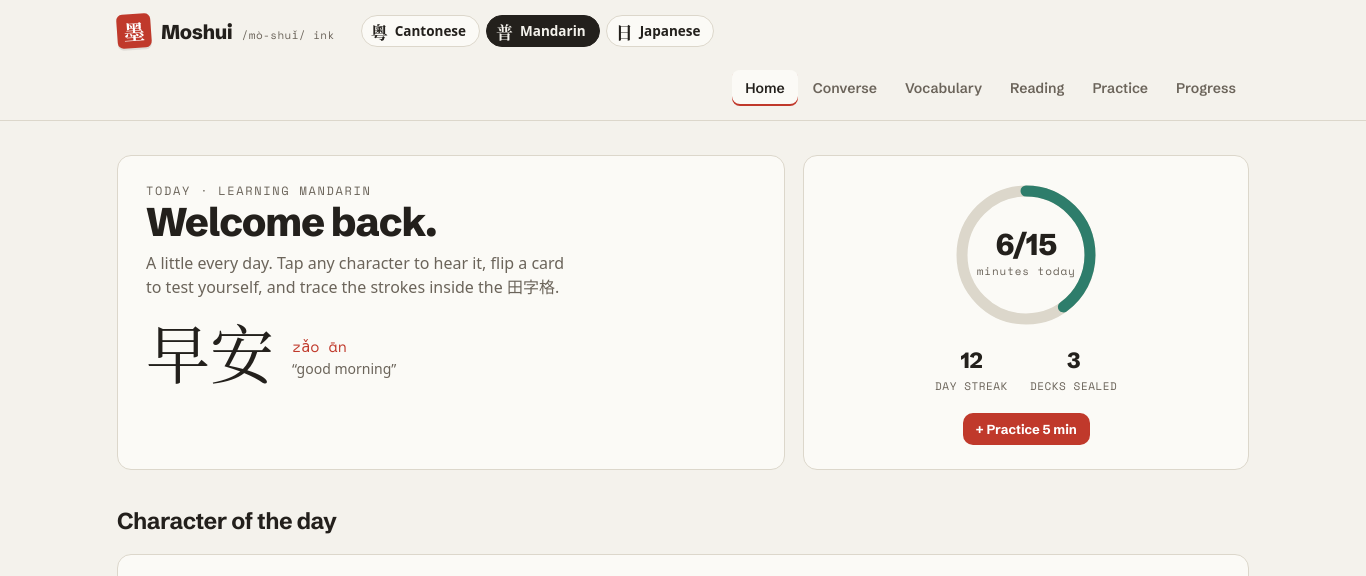
App loads and renders › switches to the Reading screen
This screenshot has width=1366, height=576.
Step 1. Click the button "Reading" → (1037, 88), box [997,70,1077,106]
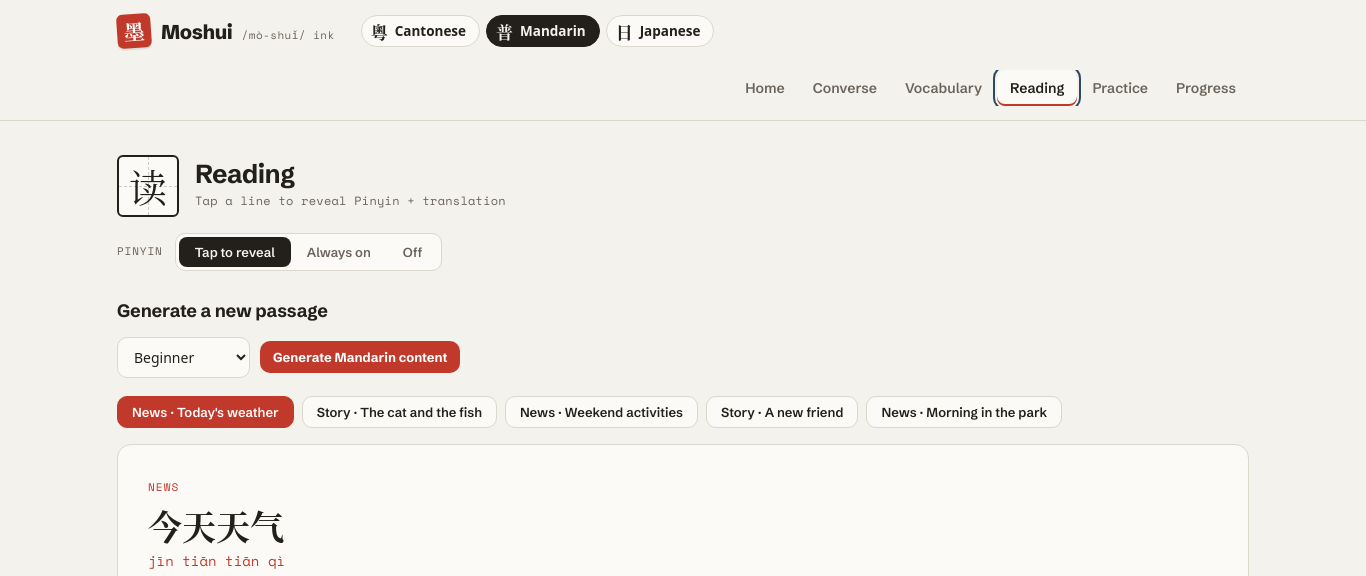
Expected: the heading "Reading" is shown, [195,158,295,190]
Expected: the element named "choose a passage" is shown, [117,396,1062,428]
